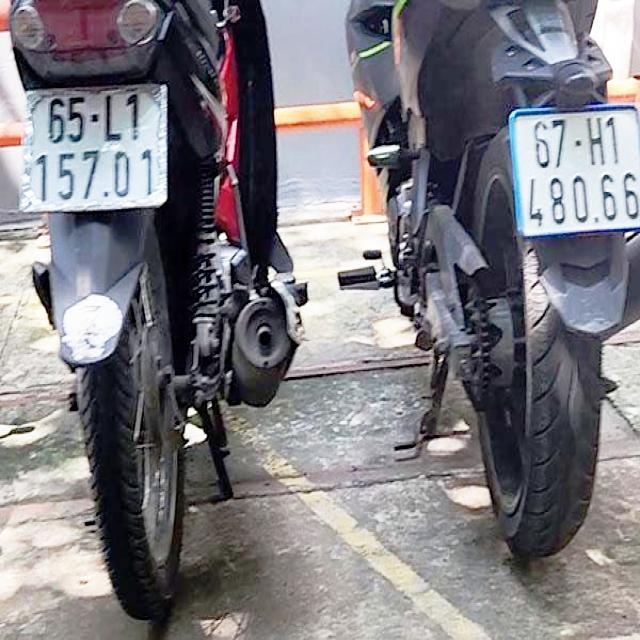license_plate: (24, 88, 165, 209), (515, 106, 640, 236)
